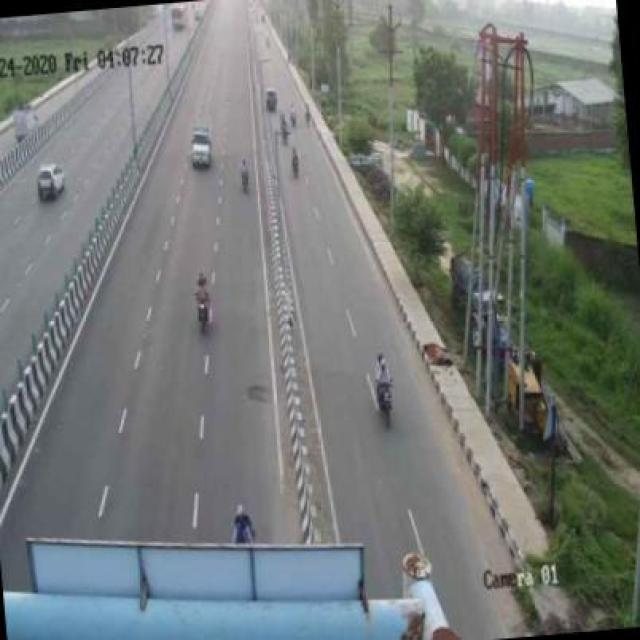car: (182, 119, 228, 180)
